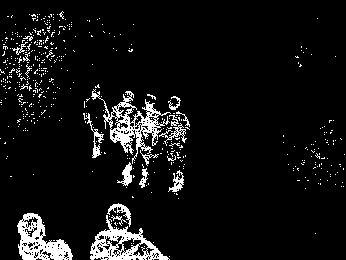person: (89, 202, 169, 260), (110, 88, 143, 188), (158, 95, 190, 193), (137, 93, 165, 190), (82, 83, 109, 160)
